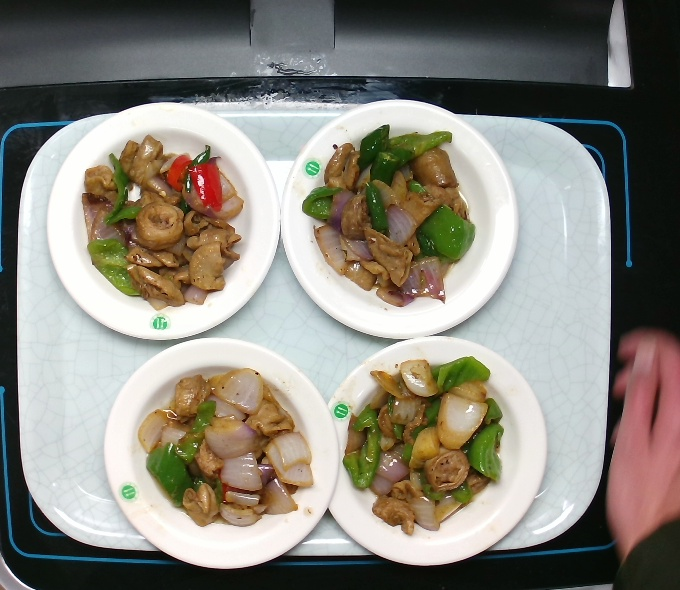wcq-QingJiaoChaoDaChang: (72, 130, 250, 315), (308, 127, 486, 312), (339, 351, 517, 536), (135, 356, 313, 541)
